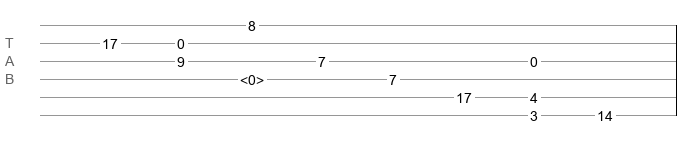0: (177, 36, 185, 46), (530, 54, 538, 64)
14: (597, 108, 613, 118)
17: (102, 36, 118, 46), (456, 90, 472, 100)
3: (530, 108, 538, 118)
4: (530, 90, 538, 100)
7: (318, 54, 326, 64), (389, 72, 397, 82)
8: (248, 18, 256, 28)
9: (177, 54, 185, 64)
harmonic: (240, 72, 264, 82)
